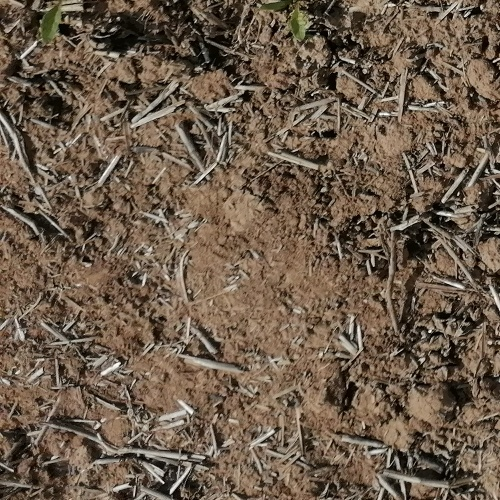beet: (32, 0, 67, 49), (274, 0, 310, 40)
